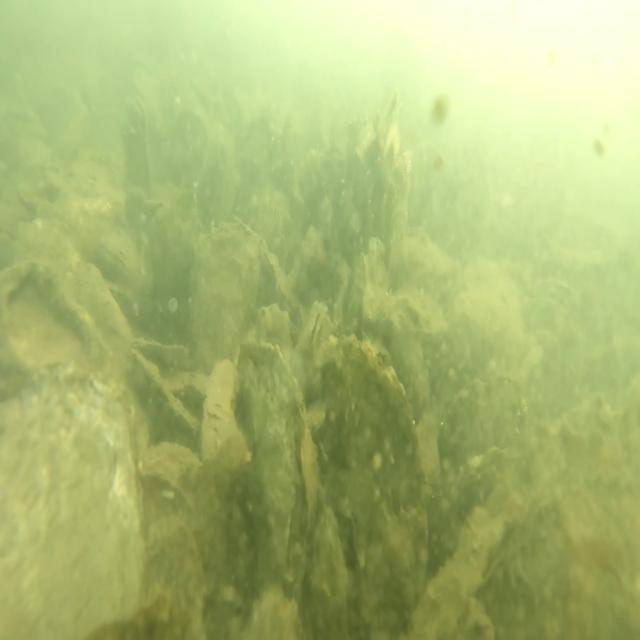Oyster-Closed: (320, 335, 429, 640), (233, 338, 317, 602), (133, 350, 199, 446), (262, 246, 300, 318), (98, 224, 140, 279), (297, 302, 328, 366), (300, 222, 321, 290)
Oyster-Indeterminate: (0, 366, 142, 640), (184, 220, 258, 374), (438, 371, 526, 498), (139, 515, 204, 640), (299, 504, 349, 640), (149, 186, 197, 314), (200, 358, 238, 472)
